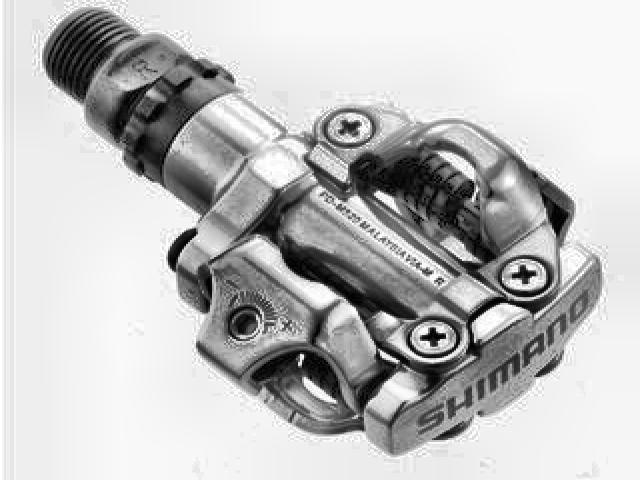pedal: (36, 6, 602, 456)
